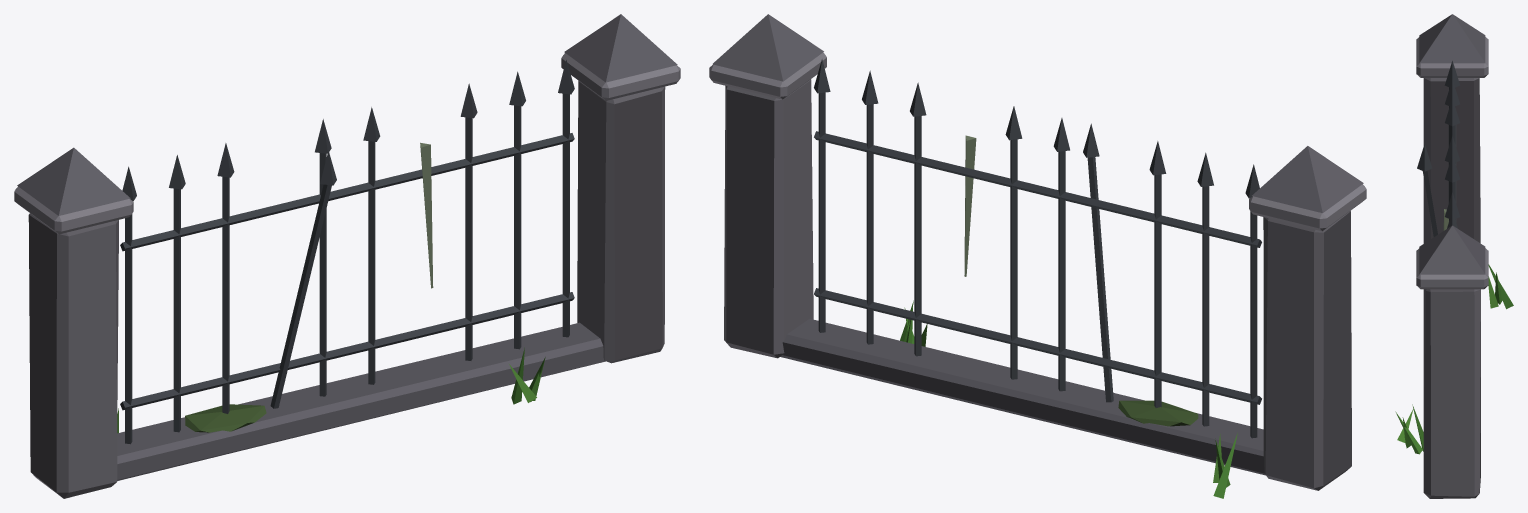
Rendered from cemetery_fence.glb.
The picture shows the model from 3 angles, left to right: view 1: azimuth 30°, elevation 25°; view 2: azimuth 150°, elevation 25°; view 3: azimuth 270°, elevation 25°; orthographic projection. The views are drawn at different scales.
Parts seen in each view (by area): view 1: CemeteryFence; view 2: CemeteryFence; view 3: CemeteryFence.
Part boxes in pixels (x1,y1,x2,y2): CemeteryFence: (14,14,680,498); CemeteryFence: (709,14,1366,498); CemeteryFence: (1395,14,1513,498).
Size of the model in its own units: 2.06 by 1.1 by 0.4282.
